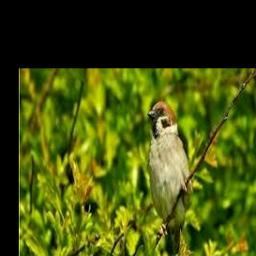Sparrow: (147, 101, 191, 256)
